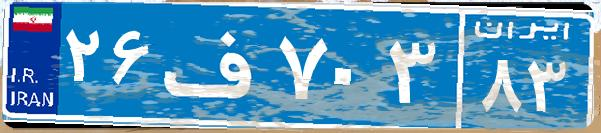0: (330, 28, 385, 110)
2: (57, 26, 110, 107)
3: (385, 28, 445, 110), (525, 38, 570, 115)
6: (110, 28, 158, 105)
7: (273, 28, 330, 110)
8: (475, 38, 525, 113)
ف: (158, 15, 273, 115)
